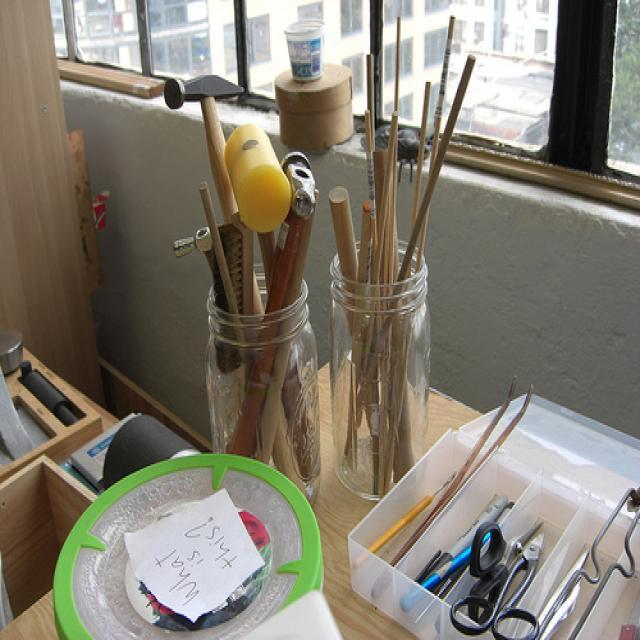hammer: (158, 61, 252, 234)
